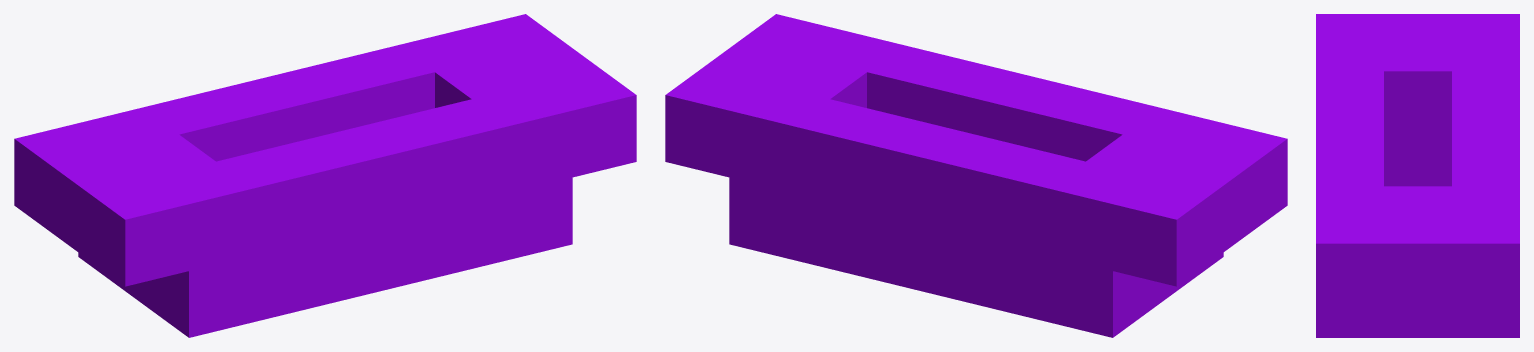
The picture shows the model from 3 angles, left to right: view 1: azimuth 30°, elevation 25°; view 2: azimuth 150°, elevation 25°; view 3: azimuth 270°, elevation 25°; orthographic projection. The views are drawn at different scales.
Parts seen in each view (by area): view 1: 76; view 2: 76; view 3: 76.
Boxes of the visible parts, left/top/right/bottom form: 76: left=14, top=14, right=636, bottom=337; 76: left=665, top=14, right=1287, bottom=337; 76: left=1316, top=14, right=1519, bottom=337.
Size of the model in its own units: 80 by 20 by 30.
Materials: 1 (1 with a texture image).
